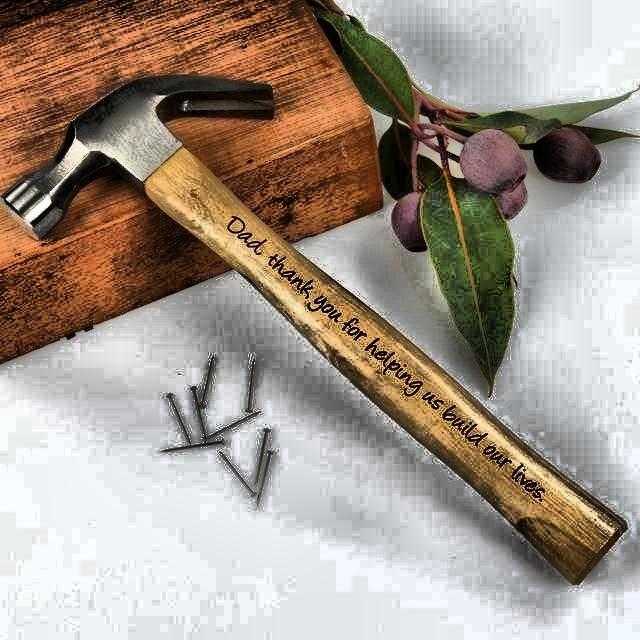hammer: (2, 76, 628, 586)
